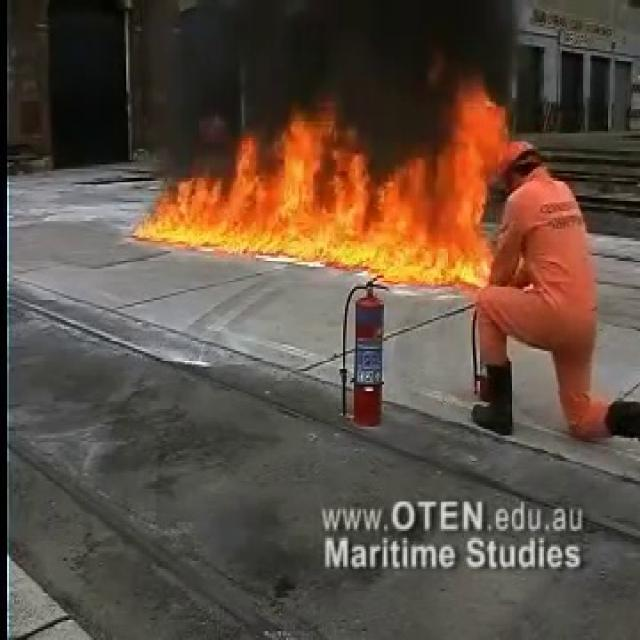Fire: (134, 94, 520, 286)
Smoke: (70, 0, 548, 140)
